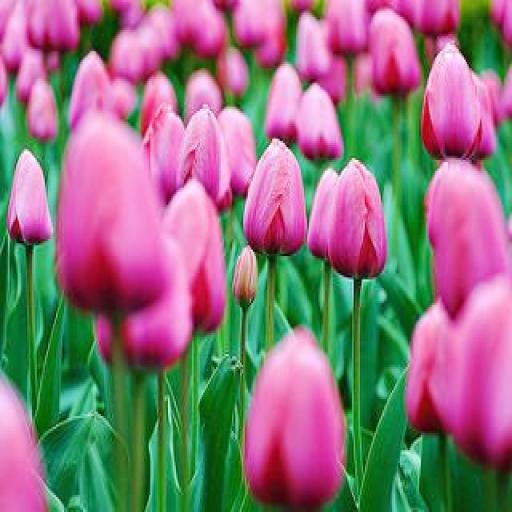tulip: (53, 115, 168, 305), (243, 324, 347, 512), (422, 45, 485, 158), (246, 136, 304, 254), (330, 154, 386, 273), (178, 102, 235, 209), (8, 147, 51, 248)
